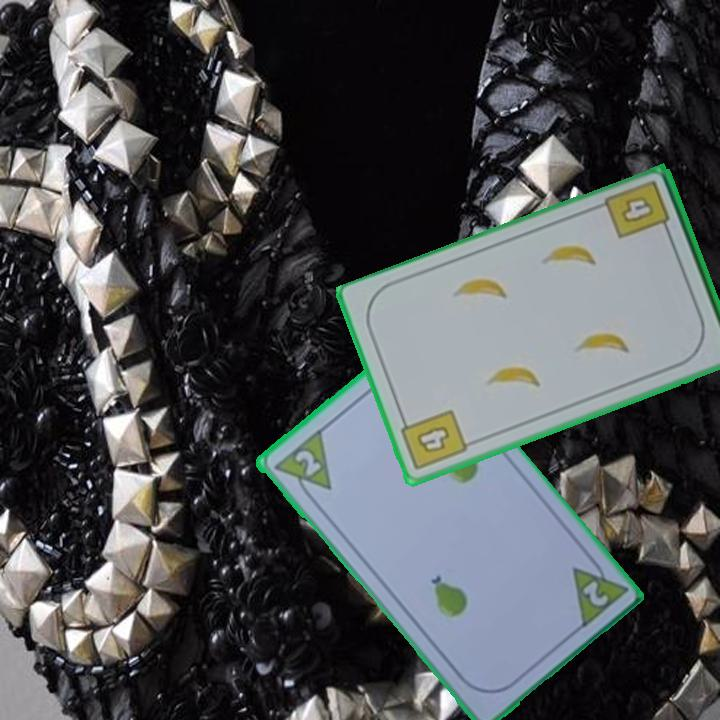2p: (567, 549, 629, 633), (290, 446, 324, 480)
4b: (396, 406, 470, 474), (601, 177, 674, 243)
